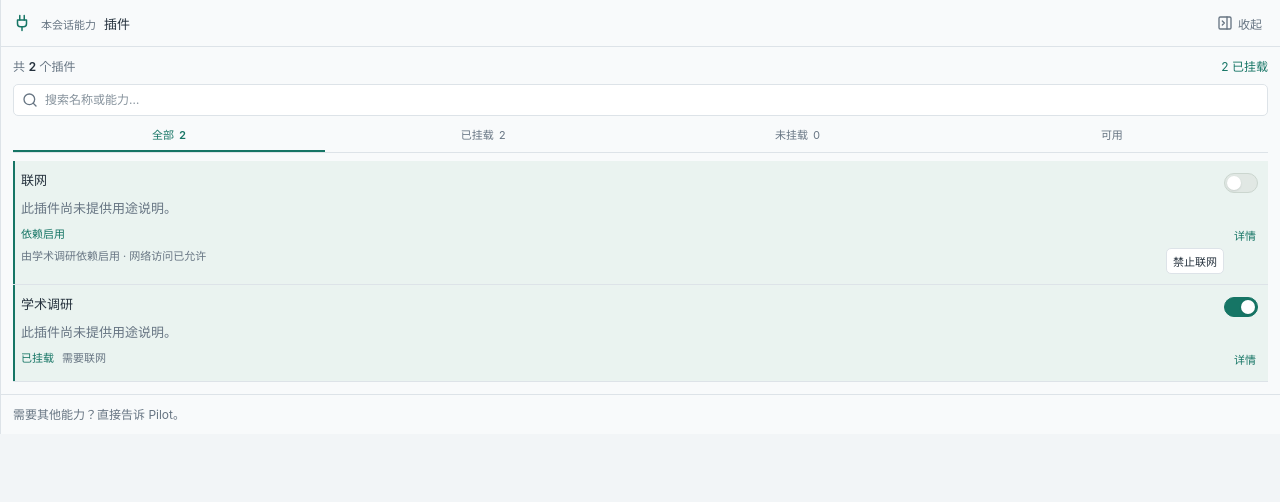
it: the session plugin panel › shows dependency activation separately from the direct switch and applies network denial to every row
The image size is (1280, 502).
Click the button "禁止联网". click: [1195, 261]
box: [1166,248,1224,274]
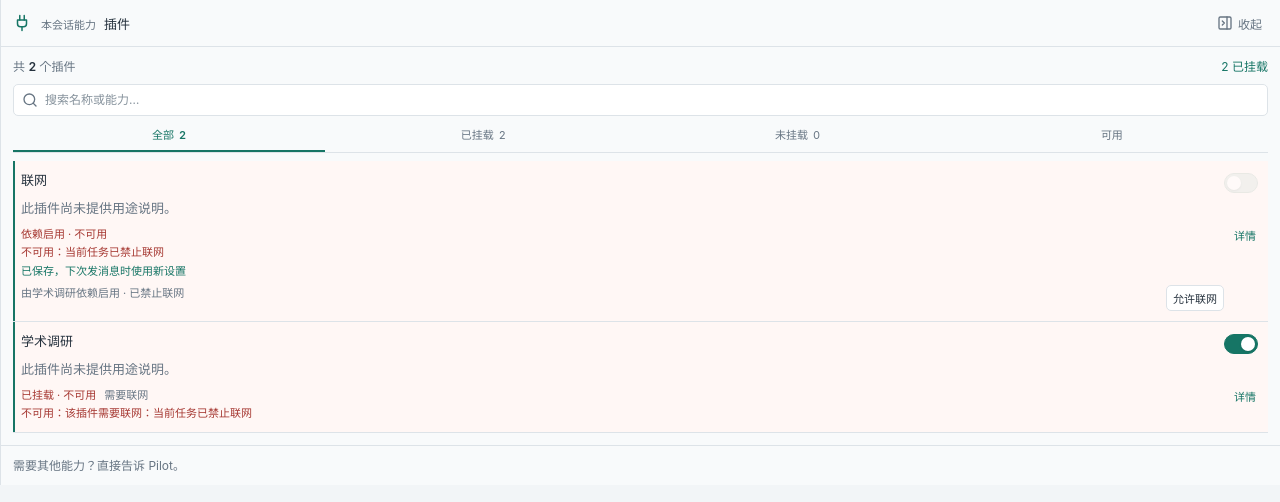
expect the text "已禁止联网" is shown: met, box [65,245,164,259]
expect the text "该插件需要联网：当前任务已禁止联网" is shown: met, box [65,406,252,420]
expect the text "允许联网" is shown: met, box [1166,285,1224,311]
